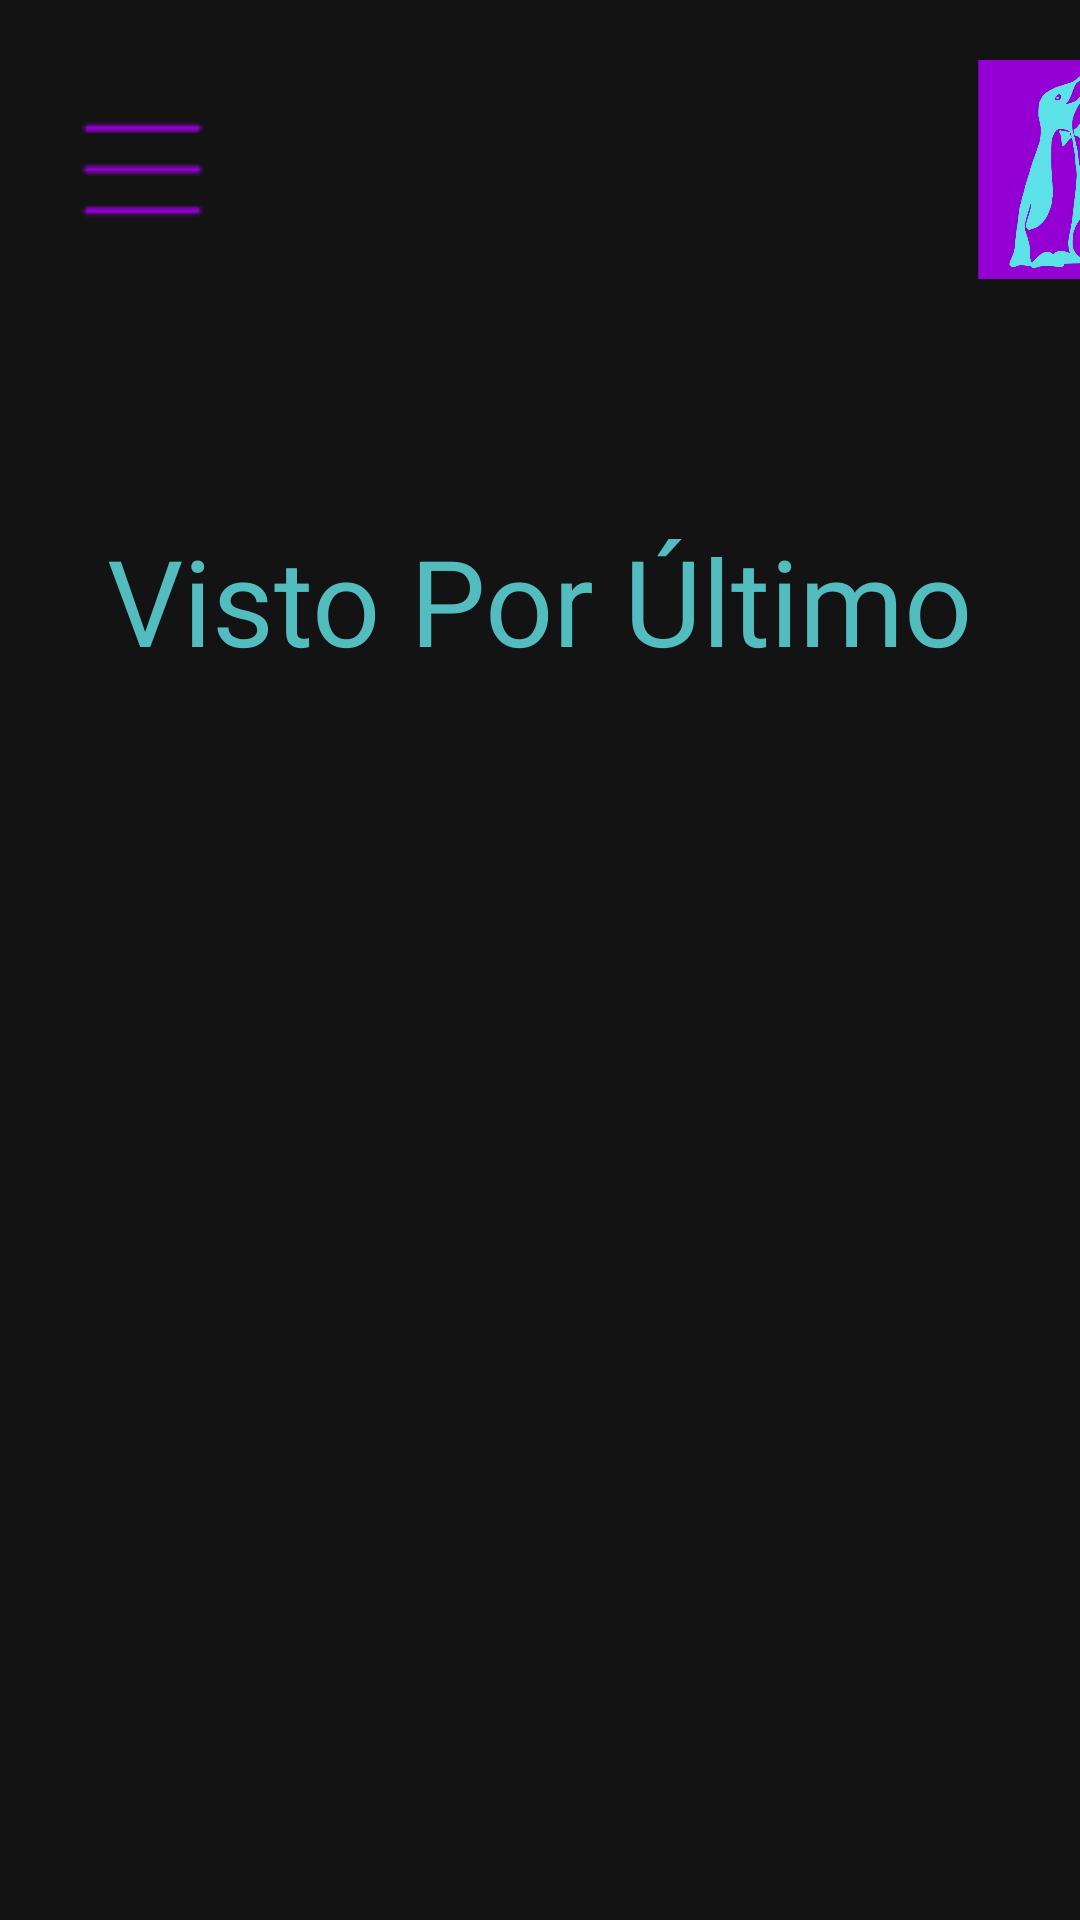

Where to tap for icons on this 1080px x 1920px app screen, as (x,y):
menu: (142,169)
